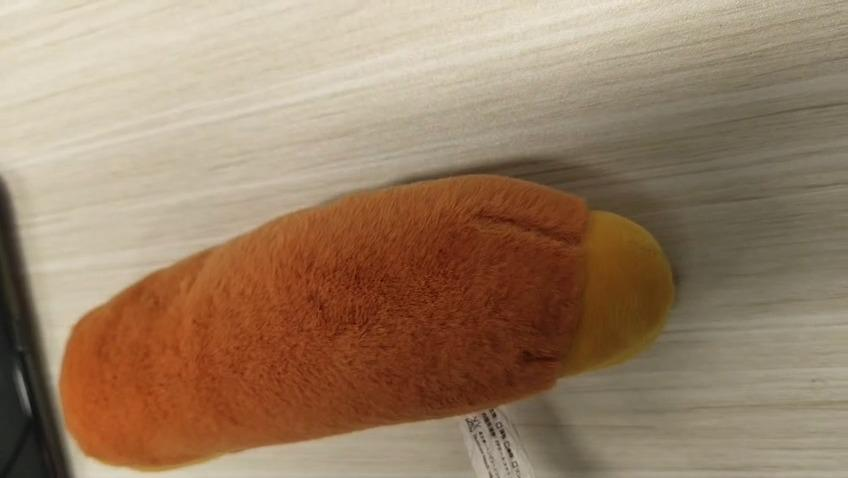hotdog: (59, 175, 675, 468)
